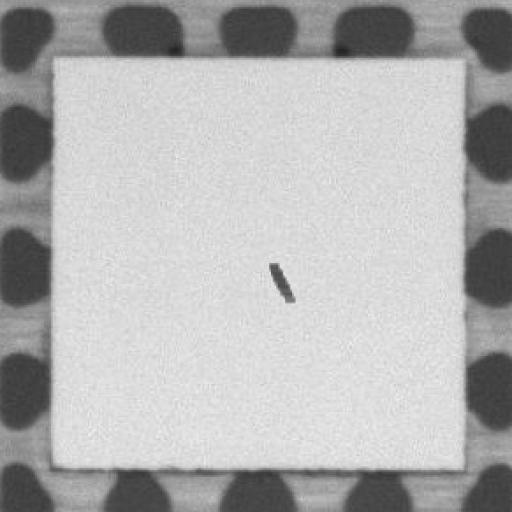DIE_INK: (264, 258, 294, 305)
